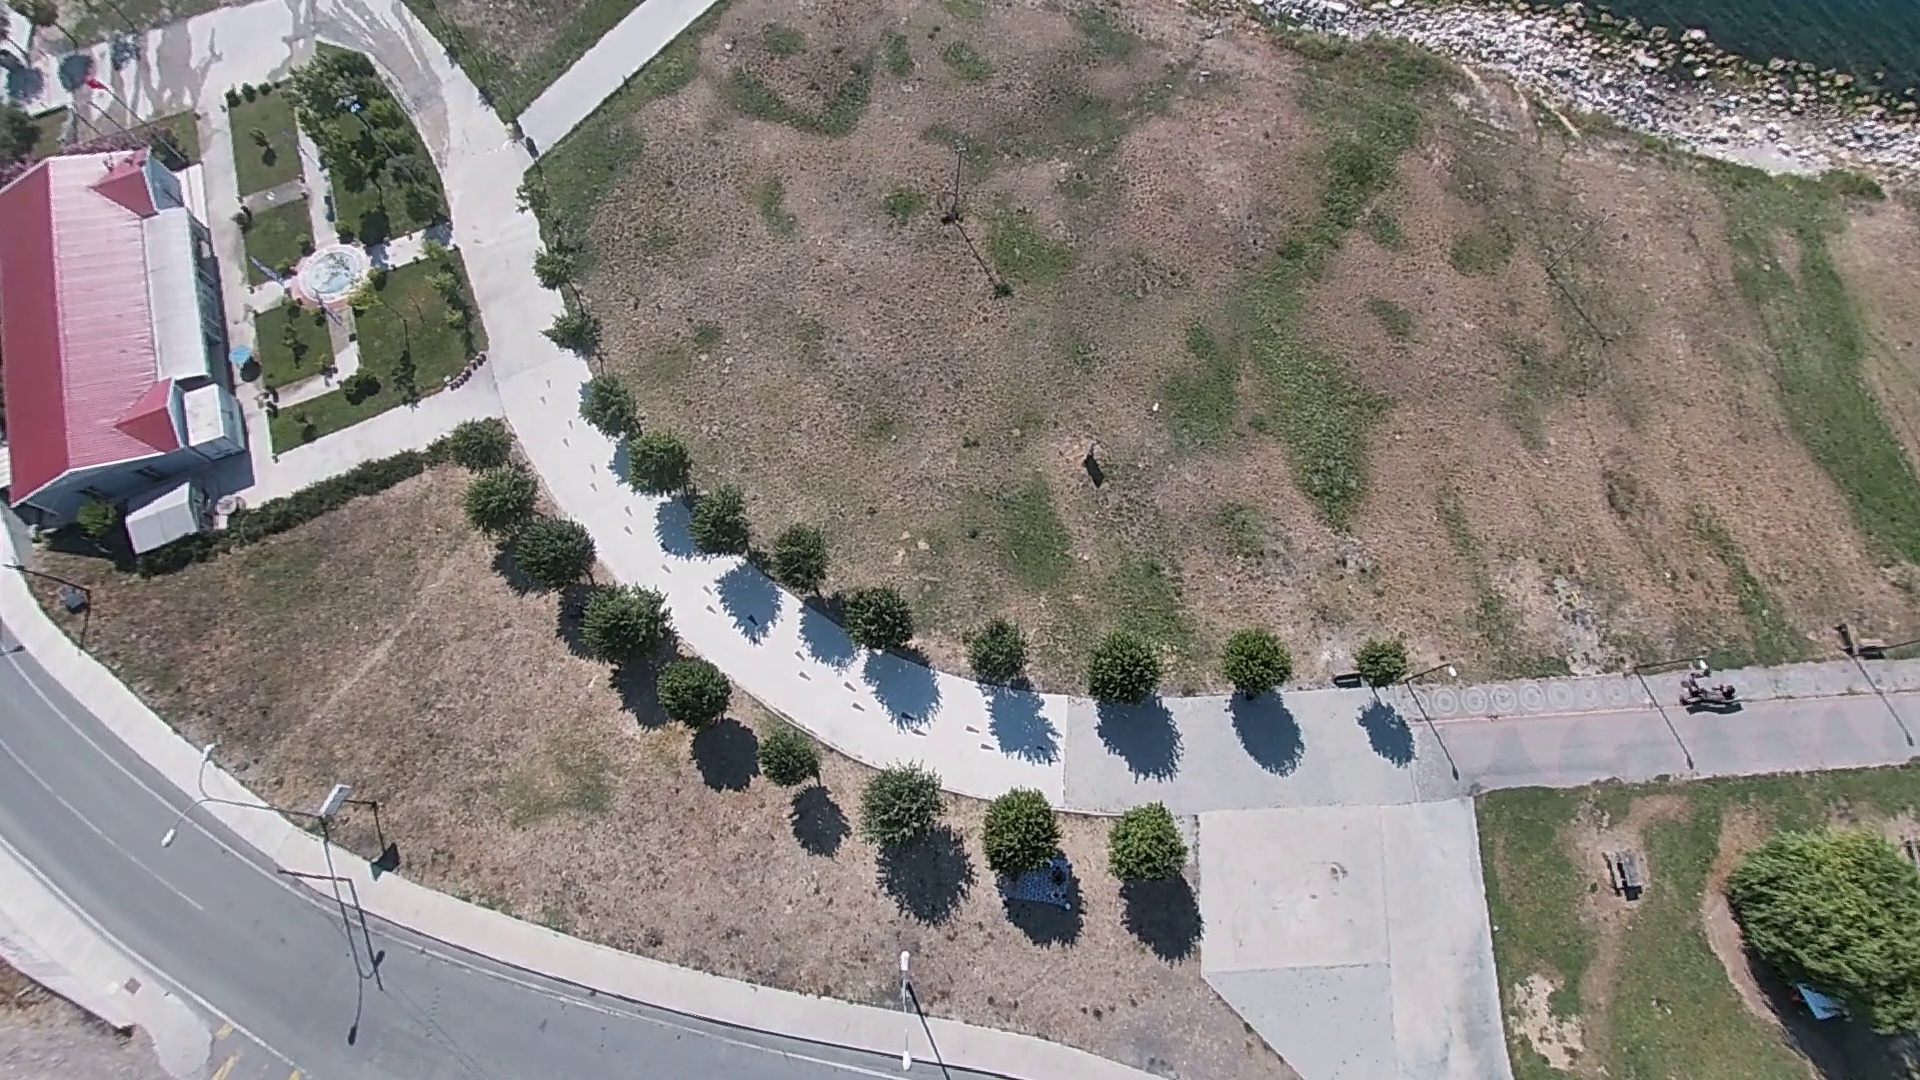arac: (1680, 676, 1743, 718)
insan: (364, 843, 397, 882), (58, 585, 91, 625), (1081, 450, 1106, 492), (323, 93, 360, 119)
